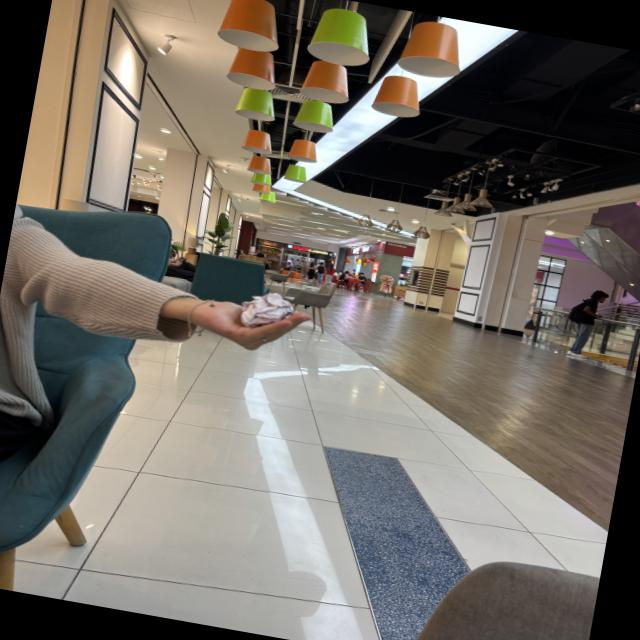crumpled_paper: (236, 282, 298, 336)
